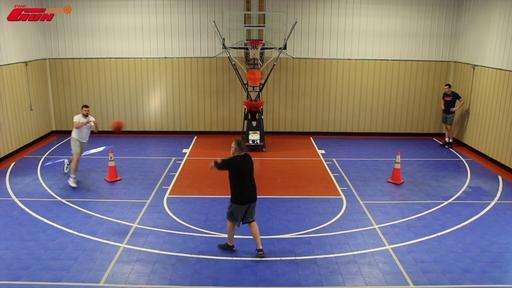ball: (111, 120, 125, 132)
human: (209, 138, 265, 258), (64, 105, 98, 189), (440, 84, 465, 150)
rim: (244, 40, 264, 58)
